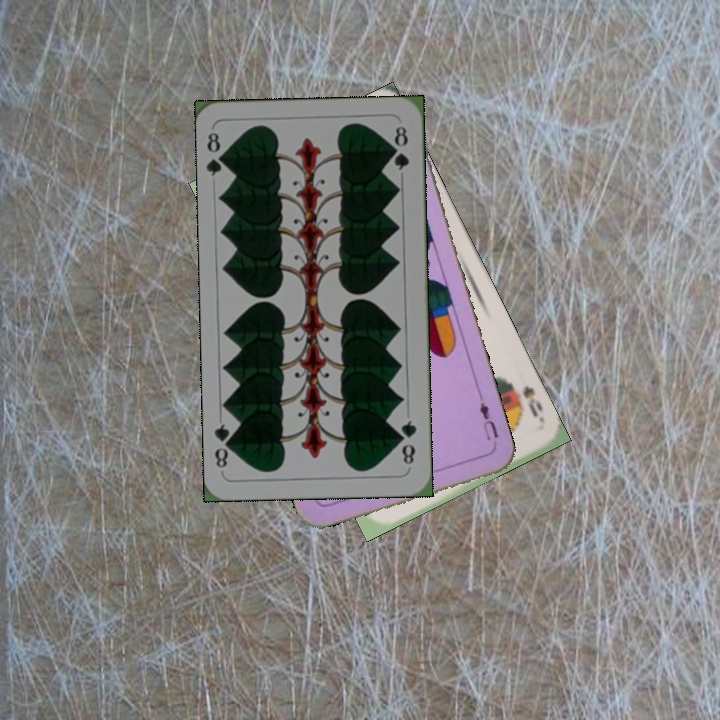EU: (475, 393, 501, 443)
G8: (203, 128, 230, 179), (396, 416, 420, 467)
SO: (503, 377, 547, 426)
